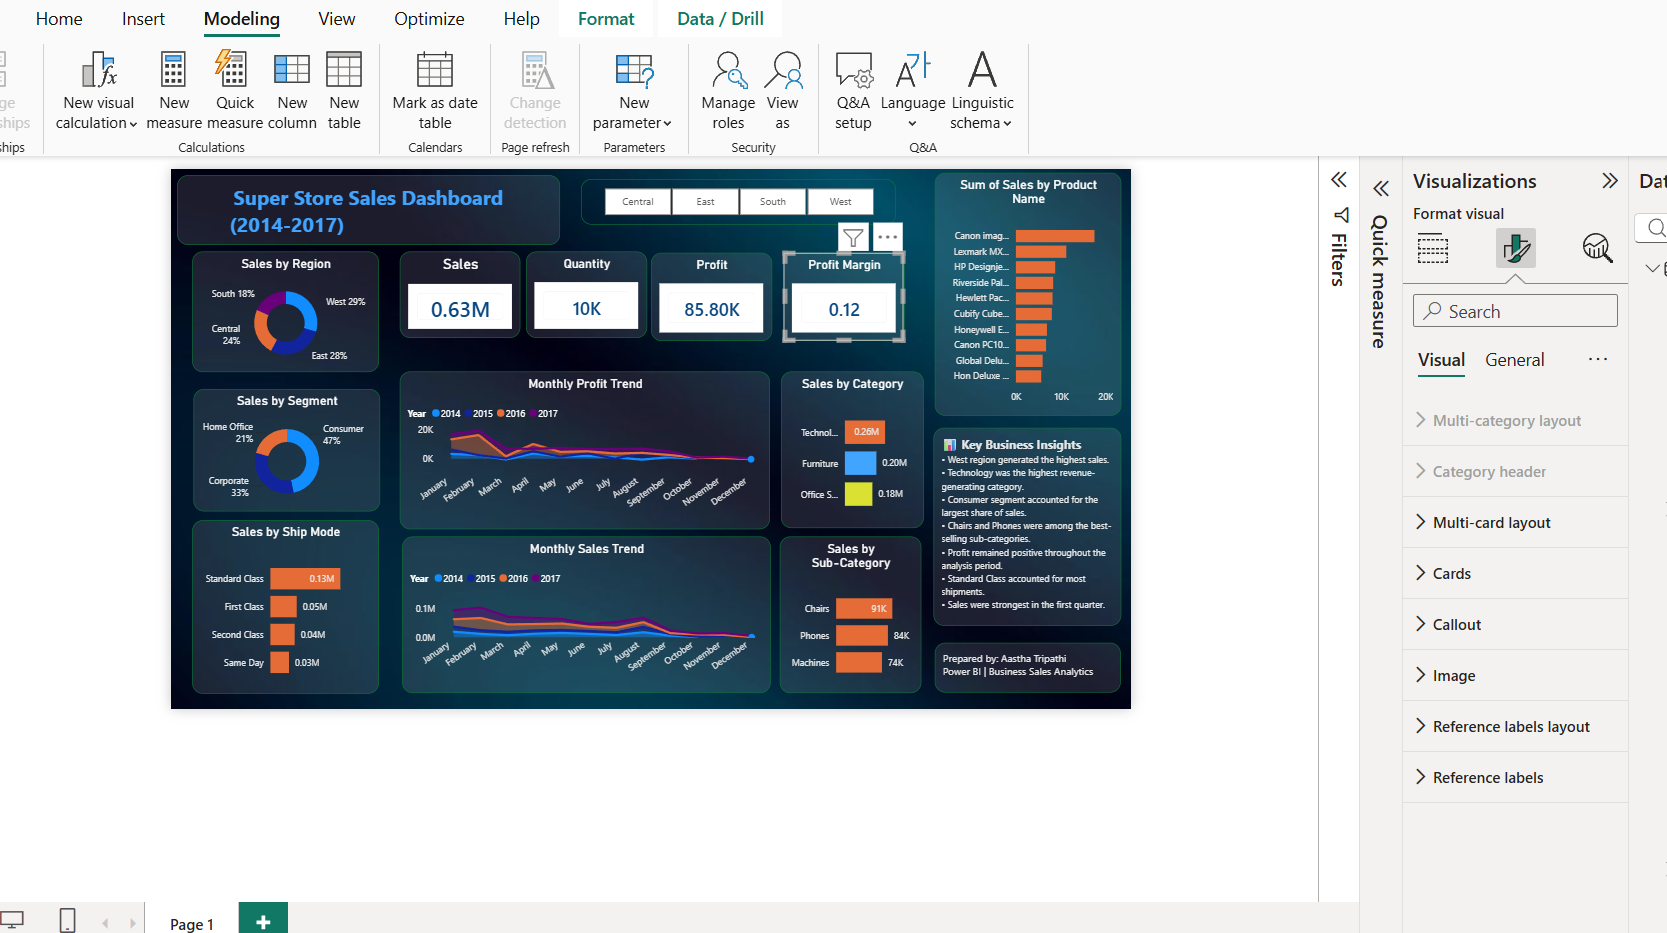

The dashboard page shown, as its layout file describes it:
{"tool":"powerbi","page":{"name":"Page 1","canvas":[1280,720],"ordinal":0},"visuals":[{"type":"clusteredBarChart","title":"Sales by Category","fields":{"Category":["Sample - Superstore.Category"],"Y":["Sum(Sample - Superstore.Sales)"]},"box":[813.8,270,190,208.8],"z":0},{"type":"clusteredBarChart","title":"Sales by Sub-Category","fields":{"Category":["Sample - Superstore.Sub-Category"],"Y":["Sum(Sample - Superstore.Sales)"]},"box":[811.2,490,188.8,208.8],"z":1000},{"type":"clusteredBarChart","title":"Sales by Ship Mode","fields":{"Category":["Sample - Superstore.Ship Mode"],"Y":["Sum(Sample - Superstore.Sales)"]},"box":[28.8,467.5,248.8,231.2],"z":2000},{"type":"stackedAreaChart","title":"Monthly Sales Trend","fields":{"Y":["Sum(Sample - Superstore.Sales)"],"Category":["Sample - Superstore.Order Date.Variation.Date Hierarchy.Month","Sample - Superstore.Order Date.Variation.Date Hierarchy.Day"],"Series":["Sample - Superstore.Order Date.Variation.Date Hierarchy.Year"]},"box":[307.5,490,491.2,208.8],"z":3000},{"type":"stackedAreaChart","title":"Monthly Profit Trend","fields":{"Category":["Sample - Superstore.Order Date.Variation.Date Hierarchy.Month","Sample - Superstore.Order Date.Variation.Date Hierarchy.Day"],"Series":["Sample - Superstore.Order Date.Variation.Date Hierarchy.Year"],"Y":["Sum(Sample - Superstore.Profit)"]},"box":[305,270,493.8,210],"z":4000},{"type":"donutChart","title":"Sales by Segment","fields":{"Category":["Sample - Superstore.Segment"],"Y":["Sum(Sample - Superstore.Sales)"]},"box":[30,293.8,248.9,163.3],"z":5000},{"type":"donutChart","title":"Sales by Region","fields":{"Category":["Sample - Superstore.Region"],"Y":["Sum(Sample - Superstore.Sales)"]},"box":[28.8,110,248.9,161.1],"z":6000},{"type":"slicer","fields":{"Values":["Sample - Superstore.Region"]},"box":[546.2,13.8,420,61.1],"z":7000},{"type":"textbox","box":[8.8,8.8,510,92.5],"z":8000},{"type":"cardVisual","title":"Sales","fields":{"Data":["Sum(Sample - Superstore.Sales)"]},"box":[305,110,161.1,115.6],"z":9000},{"type":"cardVisual","title":"Quantity","fields":{"Data":["Sum(Sample - Superstore.Quantity)"]},"box":[472.5,110,161.2,115],"z":10000},{"type":"cardVisual","title":"Profit","fields":{"Data":["Sum(Sample - Superstore.Profit)"]},"box":[640,112,161.2,117.5],"z":11000},{"type":"cardVisual","title":"Profit Margin","fields":{"Data":["Avg(Sample - Superstore.Profit Margin)"]},"box":[816,112,161.2,117.5],"z":12000},{"type":"barChart","fields":{"Category":["Sample - Superstore.Product Name"],"Y":["Sum(Sample - Superstore.Sales)"]},"box":[1018.6,5.7,248.8,323.8],"z":13000},{"type":"textbox","box":[1024,352,240,256],"z":14000},{"type":"textbox","box":[1018.3,631.7,248.3,66.7],"z":15000}]}

Visuals, with their boxes on the page's 1280x720 design canvas (x1, y1, x2, y2). These are canvas units, not pixel positions in the 1667x933 screenshot, which may show the page scaled, cropped or inside an application window:
"Sales by Category" clusteredBarChart: locate(814, 270, 1004, 479)
"Sales by Sub-Category" clusteredBarChart: locate(811, 490, 1000, 699)
"Sales by Ship Mode" clusteredBarChart: locate(29, 468, 278, 699)
"Monthly Sales Trend" stackedAreaChart: locate(308, 490, 799, 699)
"Monthly Profit Trend" stackedAreaChart: locate(305, 270, 799, 480)
"Sales by Segment" donutChart: locate(30, 294, 279, 457)
"Sales by Region" donutChart: locate(29, 110, 278, 271)
slicer - Sample - Superstore.Region: locate(546, 14, 966, 75)
textbox: locate(9, 9, 519, 101)
"Sales" cardVisual: locate(305, 110, 466, 226)
"Quantity" cardVisual: locate(472, 110, 634, 225)
"Profit" cardVisual: locate(640, 112, 801, 230)
"Profit Margin" cardVisual: locate(816, 112, 977, 230)
barChart - Sample - Superstore.Product Name x Sum(Sample - Superstore.Sales): locate(1019, 6, 1267, 330)
textbox: locate(1024, 352, 1264, 608)
textbox: locate(1018, 632, 1267, 698)
